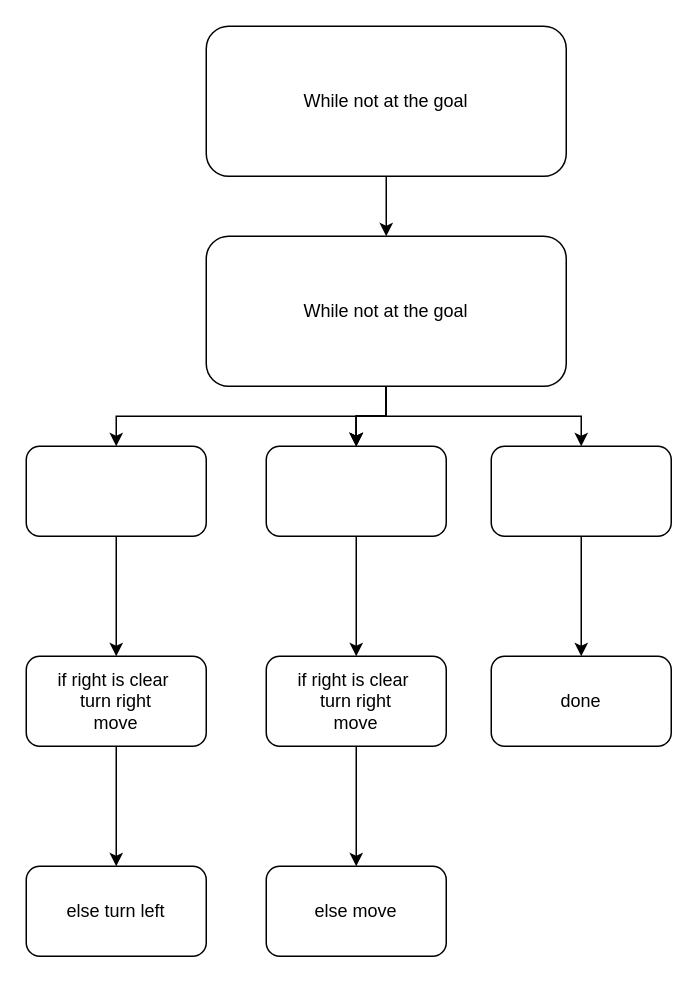
The diagram is 698 pixels wide and 983 high, and some of its shapes have lost their labels. Here are the shapes that lost their labels. From the top down, the centre of each, then its label:
the point at 115,490: while wall in front
the point at 355,490: while front is clear
the point at 580,490: if at goal
